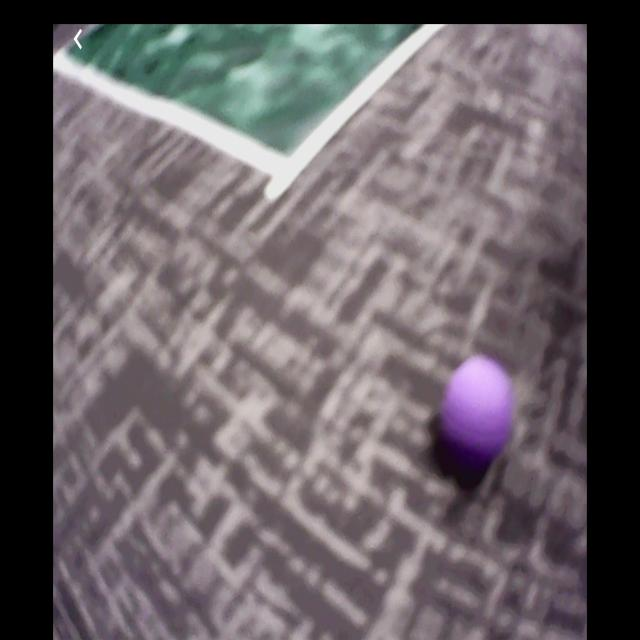ball: (443, 355, 514, 472)
